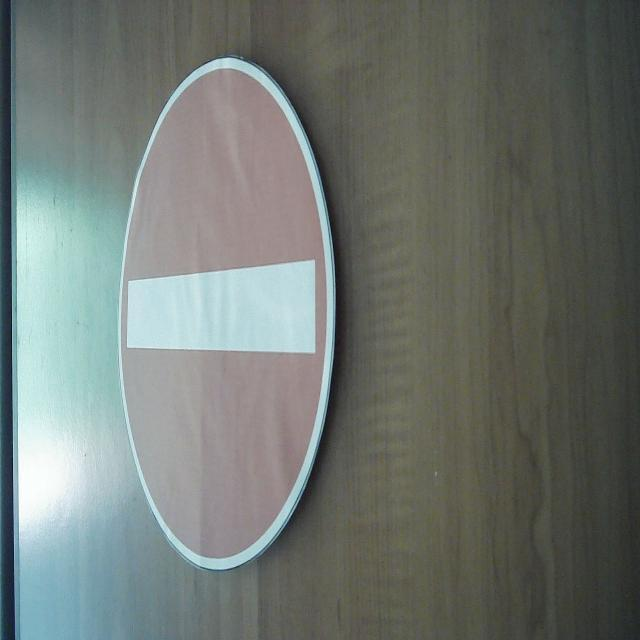no_entry: (117, 55, 339, 574)
